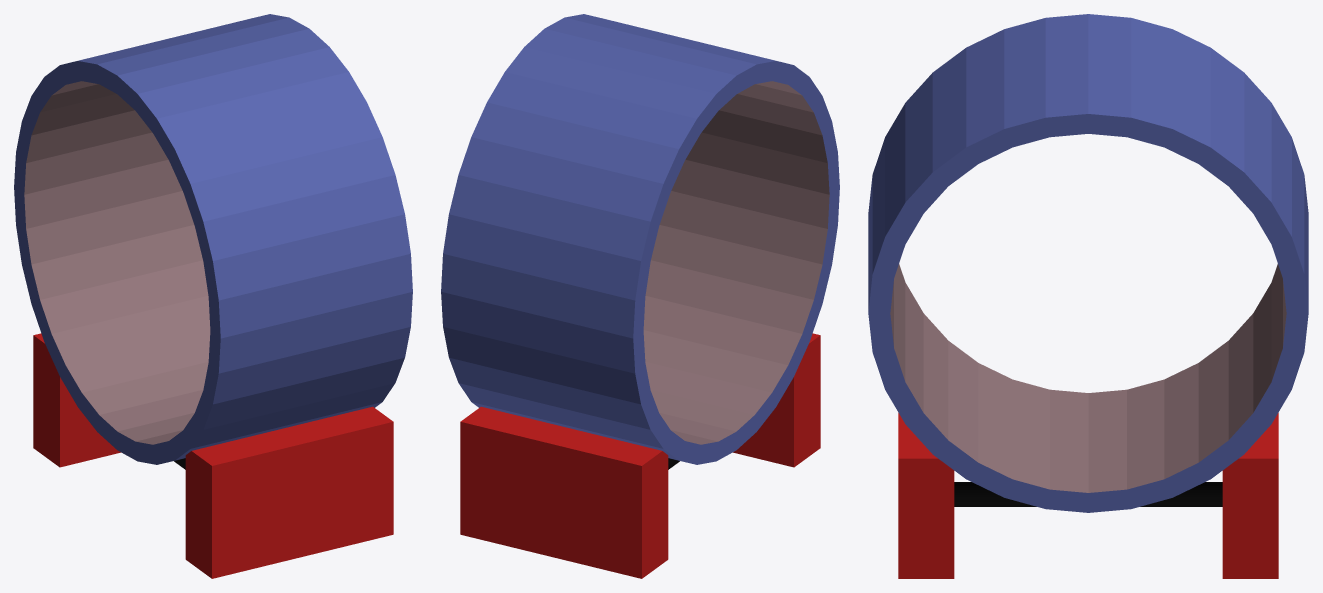
Rendered from ruota.glb.
The picture shows the model from 3 angles, left to right: view 1: azimuth 30°, elevation 25°; view 2: azimuth 150°, elevation 25°; view 3: azimuth 270°, elevation 25°; orthographic projection. The views are drawn at different scales.
Visible parts, largest first — view 1: piedi.002; view 2: piedi.002; view 3: piedi.002.
Boxes of the visible parts, x1=… form: piedi.002: x1=14, y1=14, x2=412, y2=578; piedi.002: x1=441, y1=14, x2=839, y2=578; piedi.002: x1=868, y1=14, x2=1308, y2=578.
Bounding box in the file's own units: 1.07 × 2.34 × 2.
